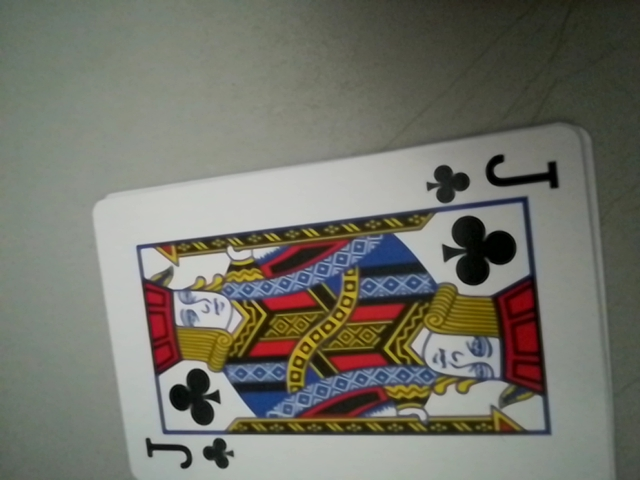mh j: (424, 145, 564, 207), (139, 430, 236, 479)
